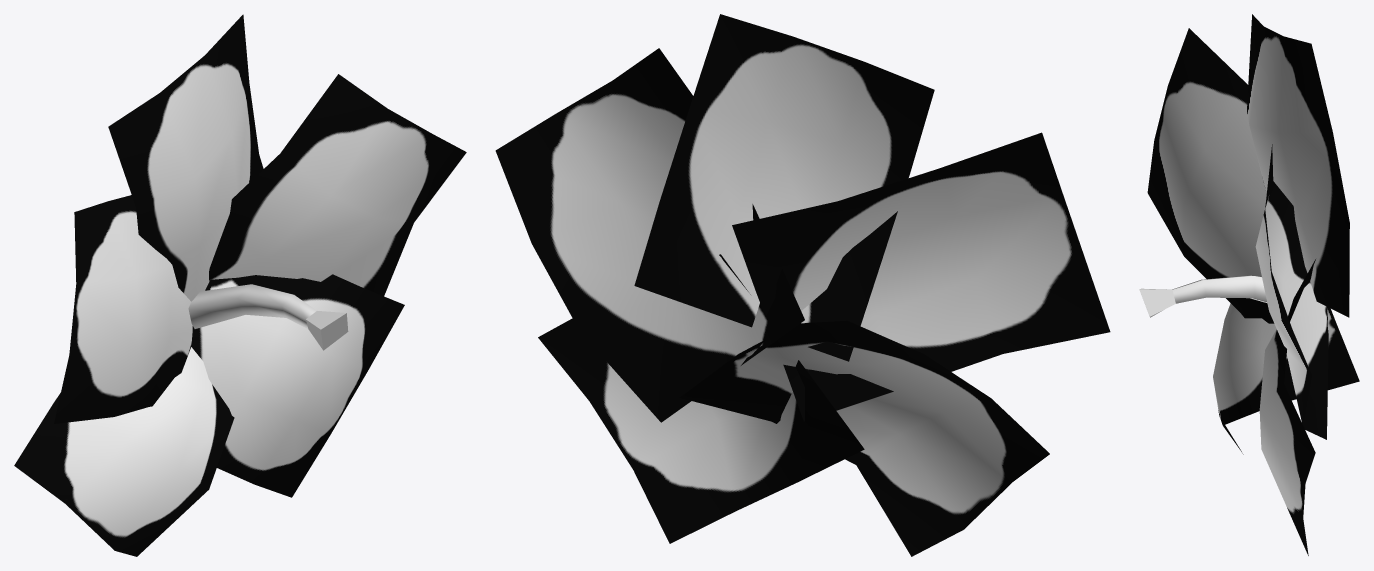
File: floress.fbx
The picture shows the model from 3 angles, left to right: view 1: azimuth 30°, elevation 25°; view 2: azimuth 150°, elevation 25°; view 3: azimuth 270°, elevation 25°; orthographic projection. The views are drawn at different scales.
Parts seen in each view (by area): view 1: Plane019, Plane020, Plane023, Plane021, Plane022, Cylinder049; view 2: Plane023, Plane022, Plane019, Plane021, Plane020; view 3: Plane022, Plane023, Plane019, Plane021, Plane020, Cylinder049.
Boxes of the visible parts, left/top/right/bottom form: Plane019: left=209, top=74, right=466, bottom=296; Plane020: left=191, top=274, right=404, bottom=497; Plane023: left=108, top=14, right=263, bottom=301; Plane021: left=14, top=347, right=234, bottom=556; Plane022: left=54, top=195, right=192, bottom=423; Cylinder049: left=188, top=284, right=348, bottom=350; Plane023: left=634, top=14, right=934, bottom=361; Plane022: left=732, top=132, right=1110, bottom=421; Plane019: left=495, top=48, right=804, bottom=422; Plane021: left=679, top=320, right=1049, bottom=556; Plane020: left=538, top=254, right=864, bottom=543; Plane022: left=1147, top=28, right=1274, bottom=323; Plane023: left=1247, top=14, right=1349, bottom=317; Plane019: left=1255, top=144, right=1328, bottom=439; Plane021: left=1213, top=303, right=1359, bottom=454; Plane020: left=1259, top=259, right=1315, bottom=555; Cylinder049: left=1139, top=275, right=1267, bottom=317.
Bounding box in the file's own units: 2.31 × 0.9162 × 2.25.
